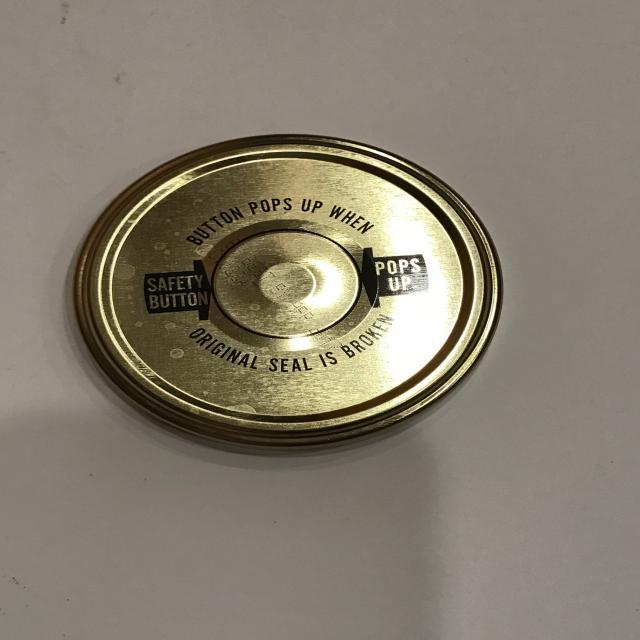metal: (70, 130, 508, 452)
